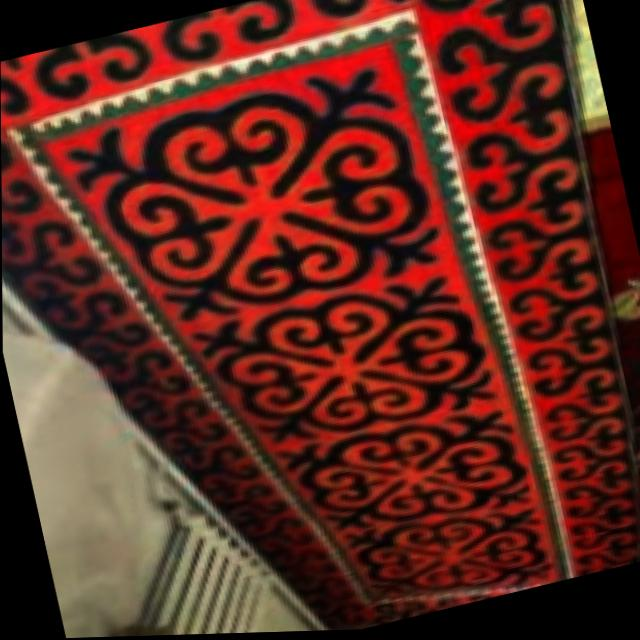Unity: (43, 53, 451, 329), (199, 270, 504, 453), (297, 402, 526, 540), (352, 501, 554, 603)
